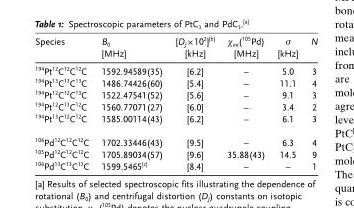table: (34, 34, 317, 171)
table column: (94, 34, 168, 171), (34, 34, 94, 171), (168, 34, 220, 171), (220, 34, 270, 171), (270, 34, 303, 171), (303, 34, 317, 171)
table column header: (34, 34, 317, 61)
table row: (34, 34, 317, 61), (34, 129, 317, 147), (34, 112, 317, 129), (34, 61, 317, 76), (34, 76, 317, 88), (34, 88, 317, 100), (34, 100, 317, 112), (34, 147, 317, 159), (34, 159, 317, 171)
